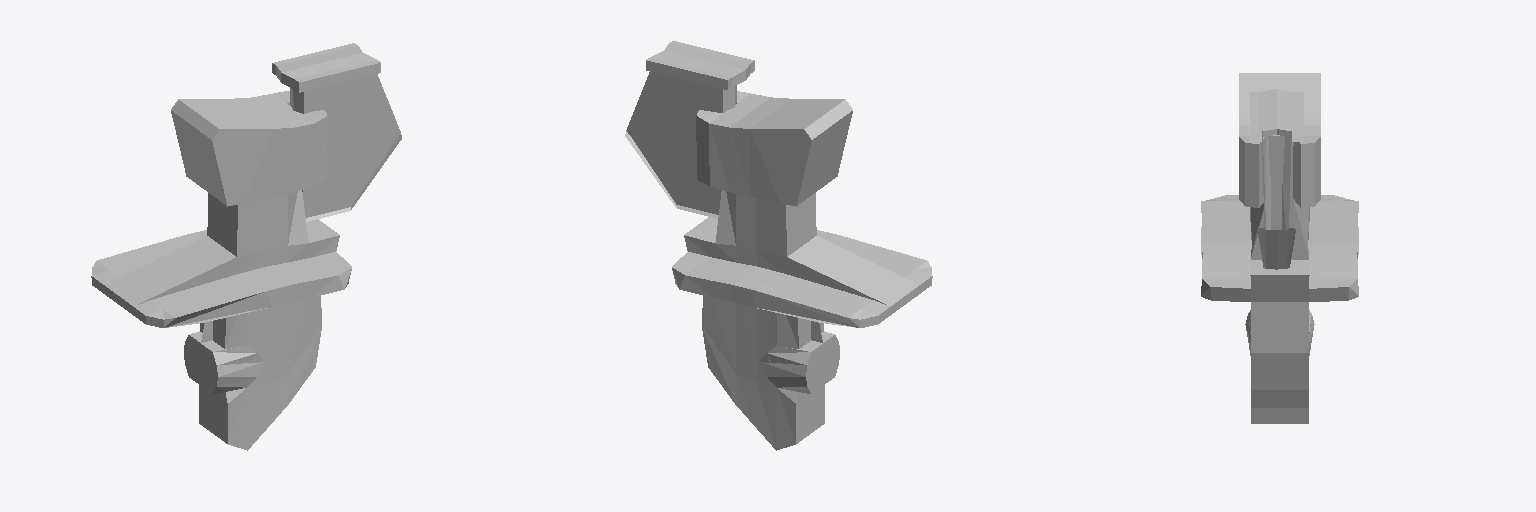
3 renders of one model, left to right at view 1: azimuth 30°, elevation 25°; view 2: azimuth 150°, elevation 25°; view 3: azimuth 270°, elevation 25°, orthographic.
Visible parts, largest first — view 1: Cabin_Plane.001_Windows.004; view 2: Cabin_Plane.001_Windows.004; view 3: Cabin_Plane.001_Windows.004.
Part boxes in pixels (left/top/right/bottom): Cabin_Plane.001_Windows.004: left=91, top=43, right=401, bottom=450; Cabin_Plane.001_Windows.004: left=625, top=41, right=932, bottom=450; Cabin_Plane.001_Windows.004: left=1201, top=73, right=1358, bottom=423.
Size of the model in its own units: 0.6036 by 0.7503 by 0.3004.